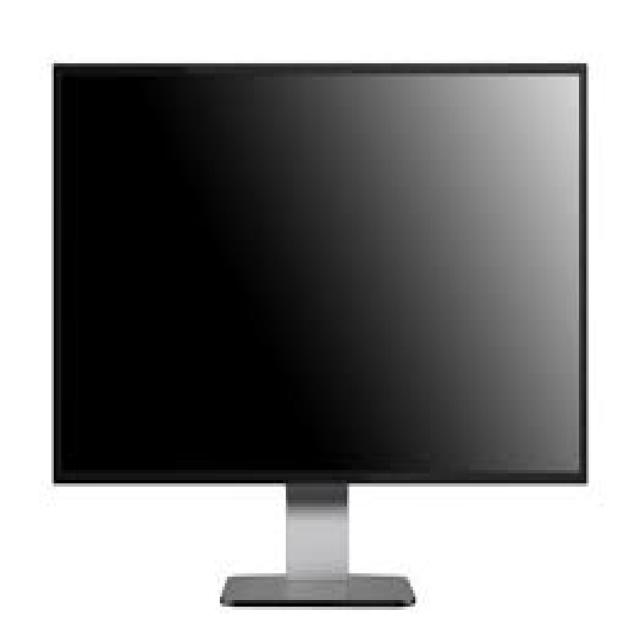monitor: (56, 66, 585, 482)
